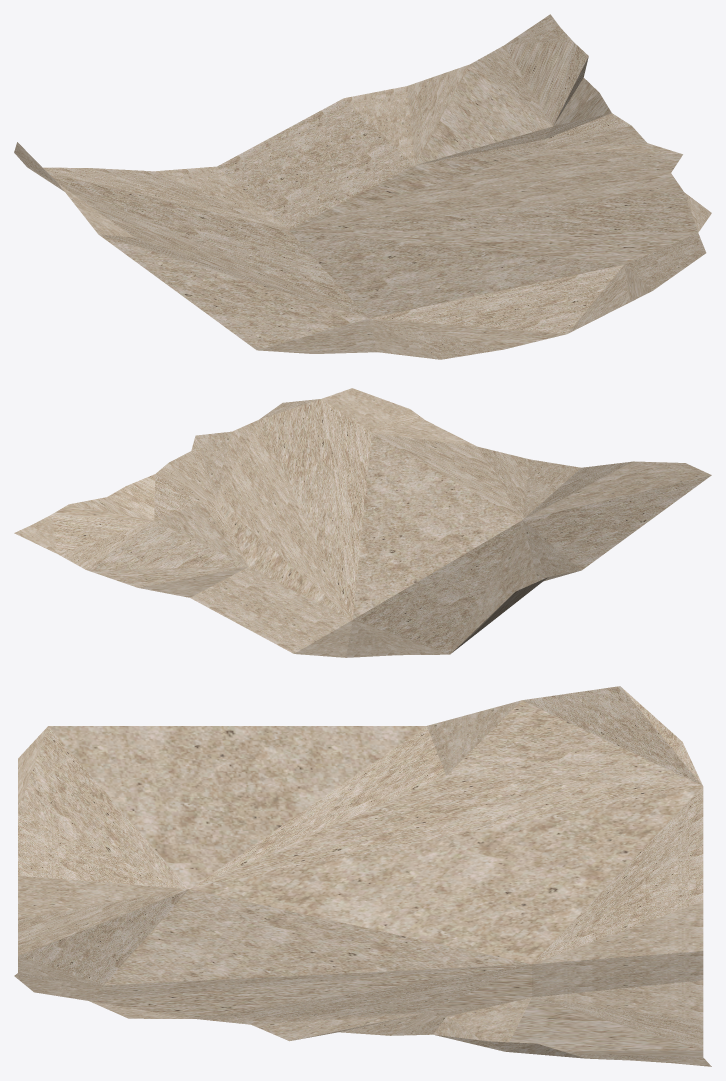
File: lodseabed124.obj
The picture shows the model from 3 angles, top to bottom: view 1: azimuth 30°, elevation 25°; view 2: azimuth 150°, elevation 25°; view 3: azimuth 270°, elevation 25°; orthographic projection. The views are drawn at different scales.
Parts seen in each view (by area): view 1: lodseabed124; view 2: lodseabed124; view 3: lodseabed124.
Boxes of the visible parts, bbox=[...] form: lodseabed124: bbox=[14, 14, 711, 359]; lodseabed124: bbox=[14, 388, 711, 657]; lodseabed124: bbox=[14, 686, 711, 1066].
Bounding box in the file's own units: 413 × 81.87 × 366.
